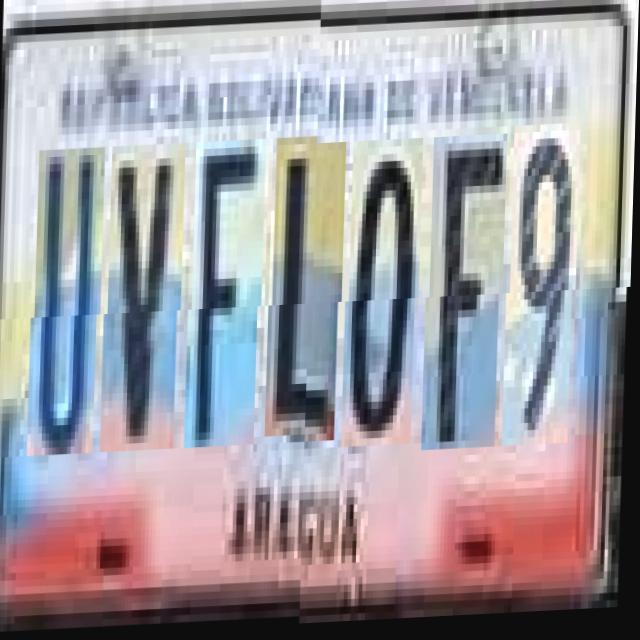9: (508, 128, 581, 452)
F: (428, 140, 508, 454), (190, 149, 267, 457)
L: (272, 146, 348, 447)
O: (347, 142, 424, 450)
U: (33, 156, 106, 464)
V: (106, 152, 186, 460)
